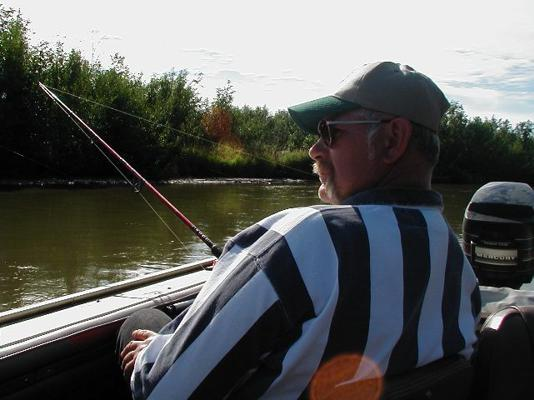person: (115, 62, 482, 400)
